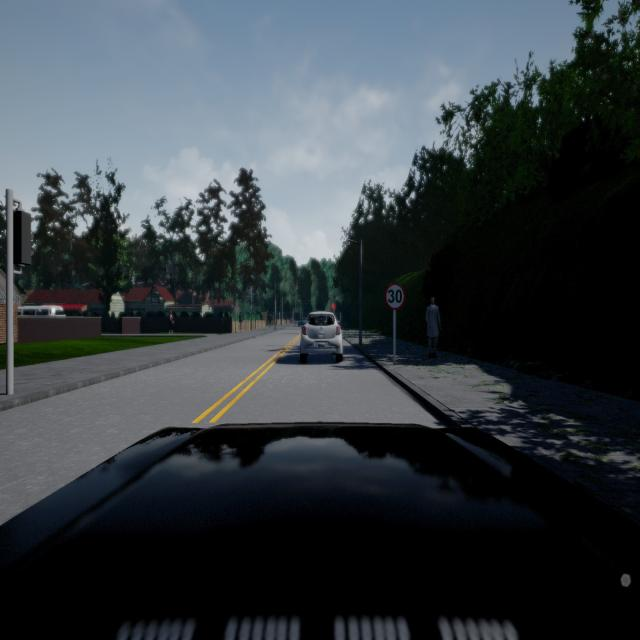Speed Limit -30-: (384, 283, 405, 309)
